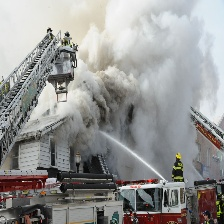smoke: (36, 3, 213, 128)
